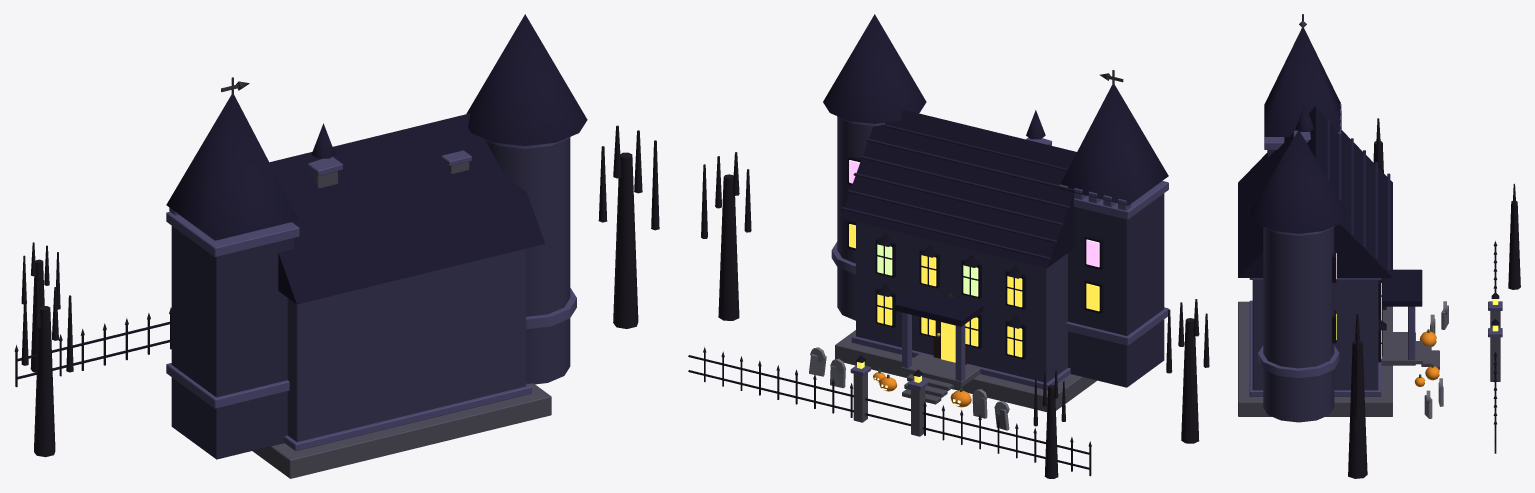
File: manor.glb
3 renders of one model, left to right at view 1: azimuth 30°, elevation 25°; view 2: azimuth 150°, elevation 25°; view 3: azimuth 270°, elevation 25°, orthographic. The views are drawn at different scales.
Visible parts, largest first — view 1: hall_34314f, roof_main.001, hall_2b2944, roofs_16132a, dead_1b1520, hall_4b4a58, hall_4a4770, hall_100e1c; view 2: roof_main.001, hall_34314f, hall_2b2944, roofs_16132a, dead_1b1520, hall_100e1c, hall_4b4a58, hall_4a4770, roofs_231e3c, hall_ffa63a, hall_16132a, hall_6a6b78 (+2 smaller); view 3: hall_34314f, roofs_16132a, roof_main.001, hall_4b4a58, dead_1b1520, hall_4a4770, roofs_231e3c, hall_16132a, hall_100e1c, hall_6a6b78, hall_f08a1c.
Part boxes in pixels (left/top/right/bottom): hall_34314f: left=287, top=138, right=570, bottom=441; roof_main.001: left=269, top=113, right=544, bottom=304; hall_2b2944: left=171, top=226, right=293, bottom=459; roofs_16132a: left=166, top=14, right=587, bottom=240; dead_1b1520: left=21, top=125, right=659, bottom=457; hall_4b4a58: left=252, top=161, right=551, bottom=478; hall_4a4770: left=166, top=137, right=576, bottom=450; hall_100e1c: left=14, top=307, right=171, bottom=387; roof_main.001: left=840, top=109, right=1076, bottom=268; hall_34314f: left=837, top=117, right=1067, bottom=382; hall_2b2944: left=1068, top=193, right=1164, bottom=387; roofs_16132a: left=823, top=14, right=1168, bottom=205; dead_1b1520: left=701, top=152, right=1209, bottom=478; hall_100e1c: left=688, top=155, right=1103, bottom=476; hall_4b4a58: left=835, top=330, right=1096, bottom=436; hall_4a4770: left=831, top=116, right=1168, bottom=390; roofs_231e3c: left=841, top=124, right=1074, bottom=260; hall_ffa63a: left=849, top=224, right=1099, bottom=382; hall_16132a: left=895, top=288, right=983, bottom=326; hall_6a6b78: left=809, top=347, right=1009, bottom=430; hall_34314f: left=1252, top=227, right=1378, bottom=422; roofs_16132a: left=1250, top=28, right=1347, bottom=233; roof_main.001: left=1238, top=106, right=1392, bottom=277; hall_4b4a58: left=1238, top=301, right=1500, bottom=416; dead_1b1520: left=1348, top=118, right=1520, bottom=478; hall_4a4770: left=1249, top=102, right=1502, bottom=396; roofs_231e3c: left=1327, top=120, right=1390, bottom=271; hall_16132a: left=1382, top=269, right=1422, bottom=306; hall_100e1c: left=1332, top=241, right=1499, bottom=453; hall_6a6b78: left=1424, top=301, right=1448, bottom=418; hall_f08a1c: left=1414, top=331, right=1439, bottom=386.
Size of the model in its own units: 27.13 by 15.64 by 13.51.
